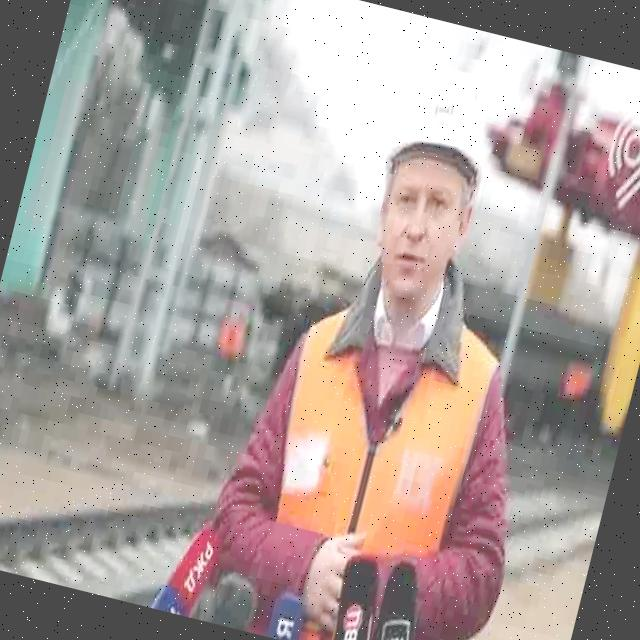helmet: (380, 62, 510, 202)
vest: (230, 278, 523, 640)
